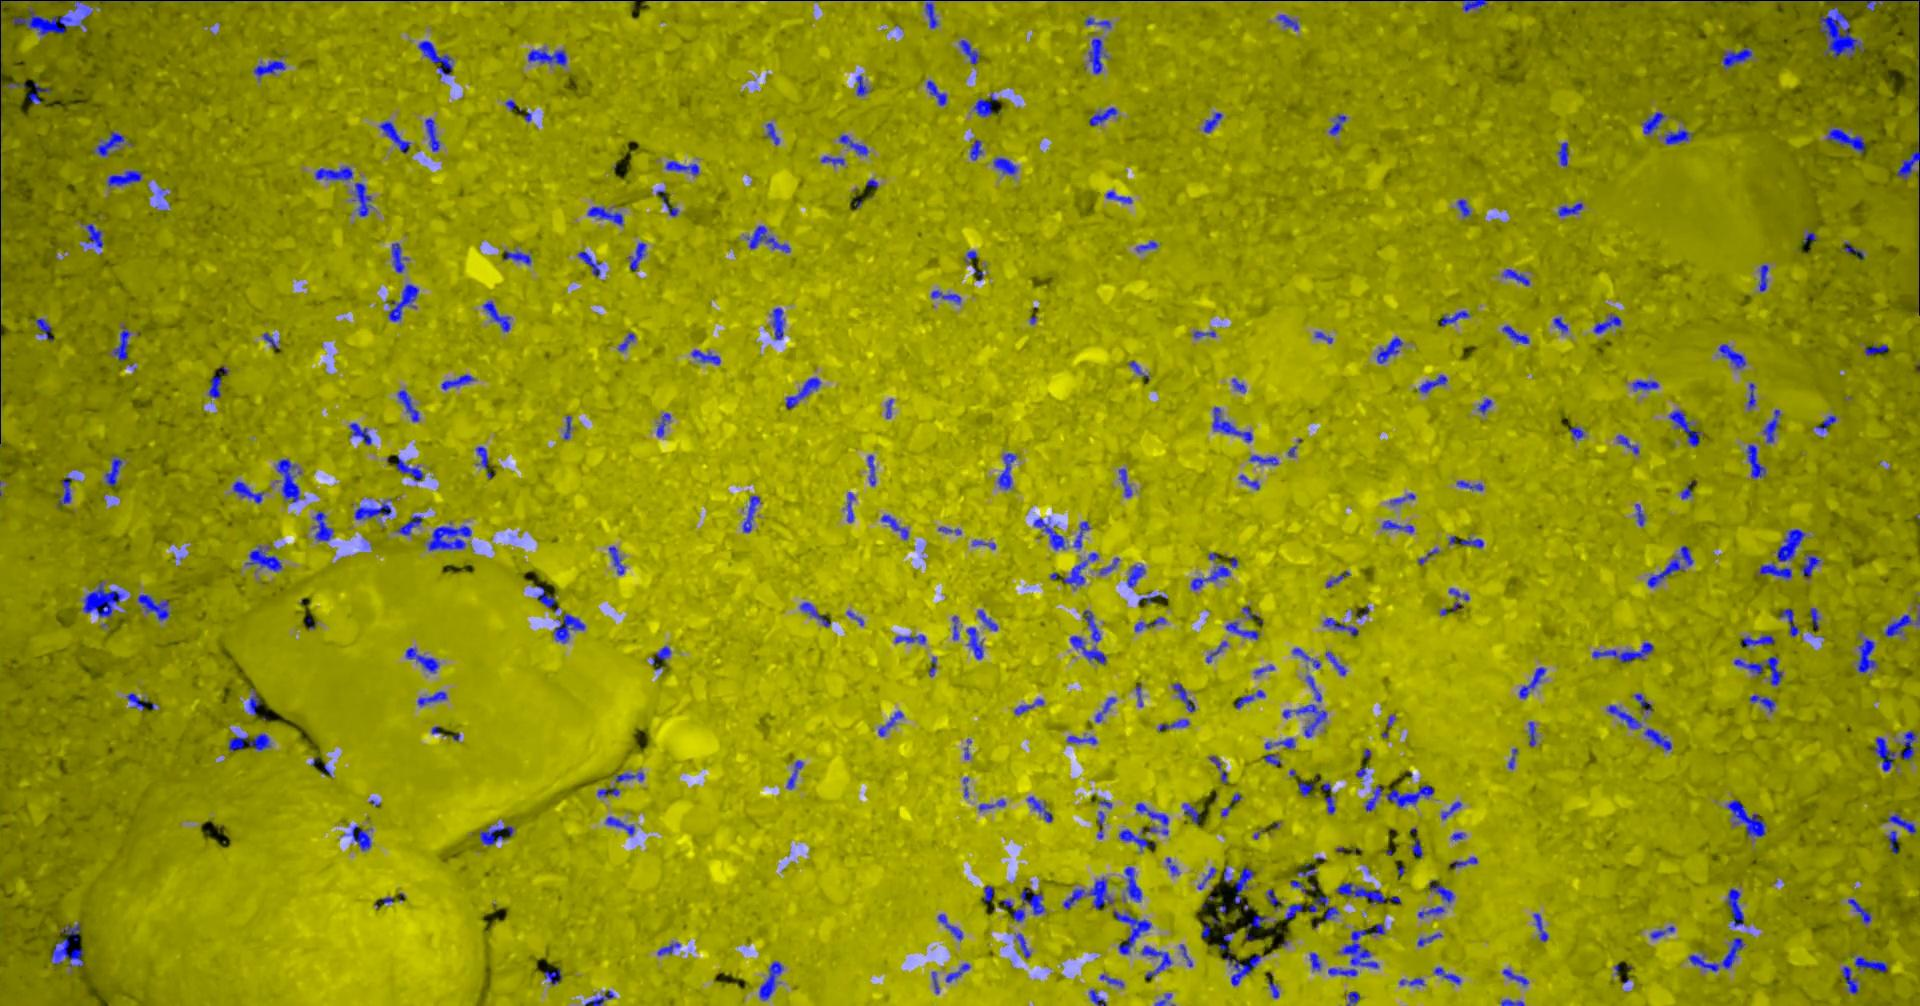ant: (1823, 0, 1919, 58), (11, 0, 109, 36), (1327, 923, 1385, 976), (1218, 931, 1263, 984), (1647, 545, 1693, 587), (1688, 937, 1743, 970), (1112, 909, 1150, 954), (1062, 876, 1112, 909), (1190, 556, 1237, 589), (83, 580, 124, 617), (1726, 799, 1766, 836), (1211, 406, 1252, 442), (1283, 704, 1326, 737), (1733, 655, 1782, 685), (1336, 882, 1399, 903), (417, 39, 452, 77), (1591, 641, 1653, 663), (427, 521, 471, 550), (1669, 409, 1703, 446), (1062, 553, 1098, 586), (276, 459, 303, 502), (745, 225, 789, 251), (389, 283, 418, 321), (1135, 801, 1168, 835), (1385, 784, 1432, 807), (378, 119, 410, 152), (1032, 517, 1065, 549), (1012, 888, 1044, 921), (785, 377, 820, 406), (1826, 127, 1865, 152), (1069, 635, 1105, 663), (1140, 945, 1171, 977), (50, 937, 83, 967), (245, 545, 281, 572), (1777, 528, 1804, 561), (758, 962, 782, 1000), (1895, 142, 1919, 179), (483, 300, 510, 332), (552, 614, 584, 641), (1517, 667, 1545, 699), (1117, 828, 1156, 851), (1263, 737, 1294, 765), (405, 647, 438, 672), (1606, 704, 1641, 728), (93, 131, 124, 156), (137, 594, 169, 620), (1884, 614, 1919, 636), (227, 733, 270, 751), (1233, 868, 1255, 903), (799, 602, 830, 626), (350, 182, 372, 216), (1873, 737, 1895, 771), (1308, 895, 1338, 920), (585, 206, 623, 225), (396, 455, 423, 481), (997, 452, 1016, 489), (742, 495, 761, 532), (232, 480, 263, 503), (397, 389, 419, 420), (1088, 38, 1107, 74), (1377, 337, 1402, 363), (1718, 343, 1745, 368), (1726, 888, 1743, 926), (937, 913, 963, 940), (880, 514, 908, 539), (1721, 47, 1751, 69), (838, 133, 869, 155), (354, 502, 391, 520), (1857, 638, 1876, 672), (479, 826, 513, 845), (527, 48, 566, 65), (253, 60, 284, 80), (877, 710, 903, 735), (1291, 647, 1321, 668), (1172, 682, 1194, 711), (1746, 445, 1765, 478), (973, 91, 997, 117), (1027, 796, 1051, 822), (1323, 617, 1357, 635), (1124, 866, 1142, 901), (1643, 728, 1671, 749), (1592, 312, 1622, 333), (312, 511, 333, 540), (1887, 813, 1916, 833), (1763, 409, 1780, 442), (1757, 561, 1790, 579), (1225, 621, 1258, 639), (577, 251, 601, 276), (535, 586, 557, 611), (1429, 879, 1454, 902), (1848, 898, 1870, 923), (1244, 915, 1267, 940), (1779, 608, 1799, 636), (113, 325, 130, 359), (1418, 373, 1448, 392), (1234, 688, 1263, 708), (604, 815, 634, 835), (1641, 111, 1665, 133), (347, 826, 370, 850), (105, 170, 141, 185), (314, 166, 352, 180), (475, 446, 491, 478), (1083, 610, 1100, 641), (965, 627, 982, 659), (957, 39, 979, 64), (1088, 107, 1117, 124), (926, 80, 946, 105), (657, 191, 677, 216), (396, 514, 422, 535), (1095, 696, 1115, 721), (424, 118, 439, 151), (665, 160, 698, 175), (104, 455, 121, 485), (1432, 967, 1460, 984), (349, 422, 371, 445), (1324, 652, 1346, 674), (441, 373, 472, 389), (56, 476, 71, 508), (1749, 694, 1774, 713), (391, 243, 408, 272), (1440, 310, 1469, 326), (1898, 730, 1915, 760), (786, 760, 803, 789), (1501, 325, 1528, 343), (1364, 784, 1382, 810), (1205, 641, 1227, 663), (1134, 616, 1164, 631), (629, 243, 645, 271), (608, 546, 625, 574), (1854, 956, 1887, 970), (1841, 967, 1858, 995), (945, 963, 969, 982), (1738, 634, 1774, 647), (1502, 968, 1528, 986), (691, 349, 720, 365), (417, 691, 446, 706), (584, 989, 613, 1005), (1502, 268, 1529, 285), (1073, 521, 1090, 547), (28, 83, 50, 103), (977, 608, 997, 630), (34, 318, 53, 340), (1801, 555, 1820, 578), (1663, 128, 1691, 144), (503, 249, 531, 264), (930, 290, 960, 304), (1015, 699, 1043, 714), (1382, 520, 1415, 532), (1617, 434, 1638, 453), (1117, 467, 1131, 497), (85, 224, 103, 246), (1126, 564, 1144, 587), (1305, 674, 1321, 701), (126, 692, 149, 710), (771, 307, 783, 339), (993, 158, 1017, 174), (1324, 570, 1349, 587), (924, 0, 938, 28), (248, 687, 262, 715), (1533, 913, 1547, 941), (1203, 112, 1222, 132), (1128, 359, 1148, 379), (1197, 868, 1215, 889), (1015, 934, 1030, 958), (651, 645, 670, 664), (1328, 114, 1346, 135), (1441, 801, 1462, 819), (1557, 202, 1582, 216), (1630, 379, 1658, 391), (657, 412, 670, 437), (1416, 932, 1441, 946), (1158, 719, 1189, 730), (1105, 191, 1131, 203), (62, 923, 81, 941), (1277, 14, 1298, 30), (1843, 243, 1863, 259), (1098, 558, 1119, 574), (1182, 803, 1199, 823), (1250, 453, 1277, 465), (1449, 856, 1477, 868), (617, 332, 634, 351), (1634, 694, 1651, 713), (1284, 903, 1303, 920), (1815, 415, 1835, 431), (1238, 474, 1258, 489), (1265, 889, 1280, 909), (1886, 829, 1898, 854), (1650, 925, 1674, 937), (657, 942, 681, 955), (1098, 974, 1123, 987), (978, 799, 1004, 810), (1417, 906, 1444, 917), (855, 74, 869, 95), (764, 122, 778, 144), (262, 332, 279, 348), (543, 968, 561, 984), (1462, 0, 1487, 11), (208, 375, 221, 398), (1389, 493, 1415, 504), (615, 771, 643, 781), (1557, 142, 1568, 166), (969, 138, 982, 160), (1448, 587, 1469, 600), (1757, 264, 1768, 291), (1457, 480, 1483, 490), (1680, 480, 1695, 498), (846, 492, 855, 522), (894, 634, 924, 643), (1065, 735, 1096, 744), (1088, 989, 1106, 1005), (1297, 862, 1316, 876), (1084, 17, 1110, 27), (1863, 344, 1888, 354), (1297, 781, 1314, 795), (1164, 857, 1178, 875), (1289, 879, 1307, 893), (1135, 240, 1157, 251), (867, 453, 875, 485), (1154, 993, 1175, 1005), (1457, 199, 1470, 216), (1634, 503, 1644, 525), (1411, 838, 1422, 857), (1309, 951, 1321, 970), (820, 155, 844, 164), (563, 415, 571, 439), (1459, 539, 1483, 547), (1553, 316, 1567, 332), (1477, 398, 1491, 413), (1096, 810, 1103, 838), (1507, 748, 1517, 768), (1747, 382, 1755, 409), (1230, 379, 1244, 392), (1570, 426, 1583, 439), (1324, 795, 1335, 814), (597, 788, 618, 796), (1528, 721, 1535, 746), (1399, 977, 1423, 984), (1810, 607, 1818, 627), (1346, 991, 1359, 1005), (1803, 231, 1817, 243), (983, 885, 993, 901), (951, 615, 957, 639), (1500, 998, 1524, 1005), (1192, 330, 1215, 337)
